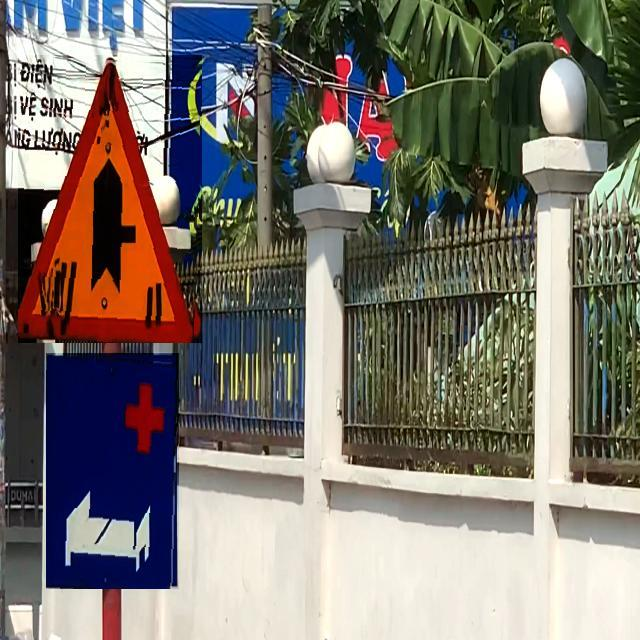R-425: (46, 353, 179, 589)
W-207b: (18, 55, 202, 343)
